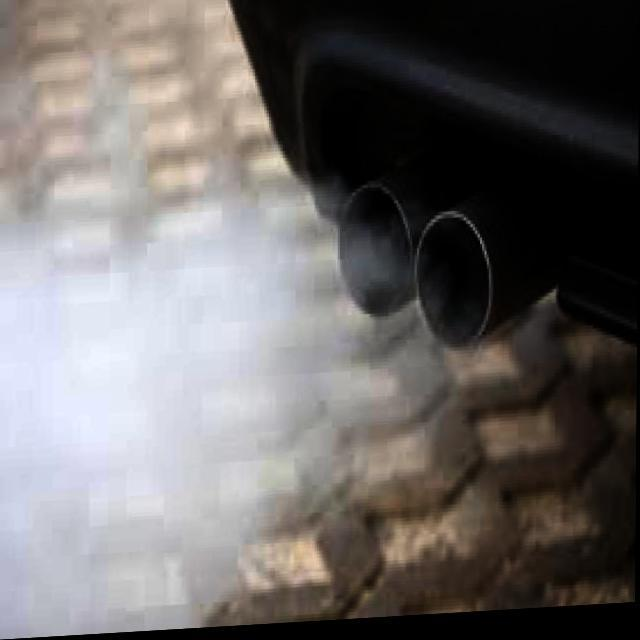Smoke: (0, 159, 512, 640)
